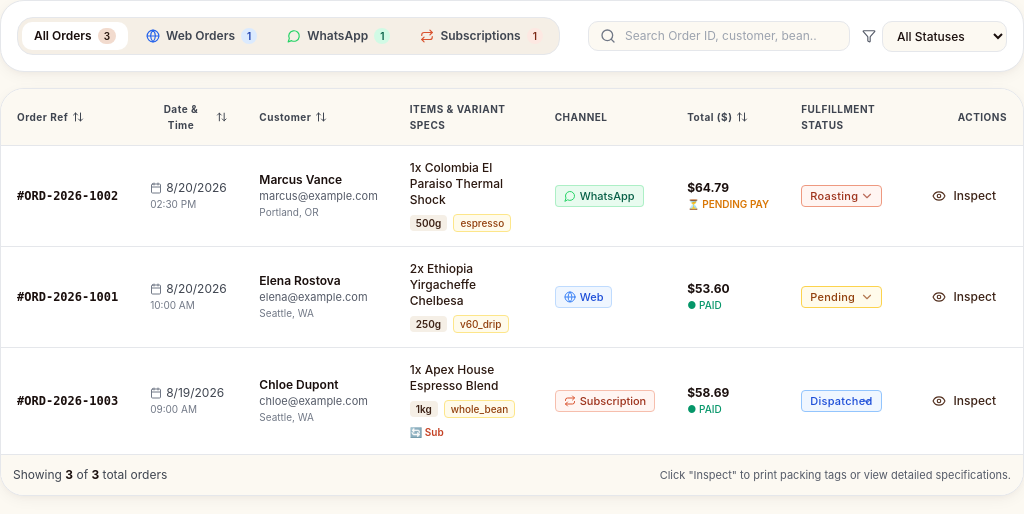
Test: Admin UI Components — Unit Tests › OrderTable › filters orders by status dropdown
Select "Roasting" in the dropdown named "Filter orders by status" at (944, 36), box [882,20,1007,52]
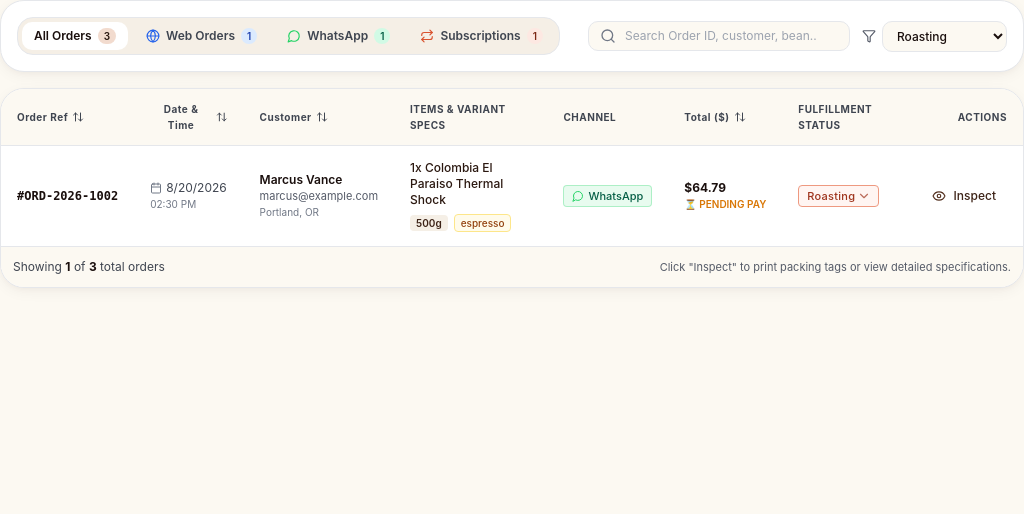
Expected: the row with test id "order-row-ORD-2026-1002" is shown, [1,146,1023,246]
Result: the row with test id "order-row-ORD-2026-1001" is gone
